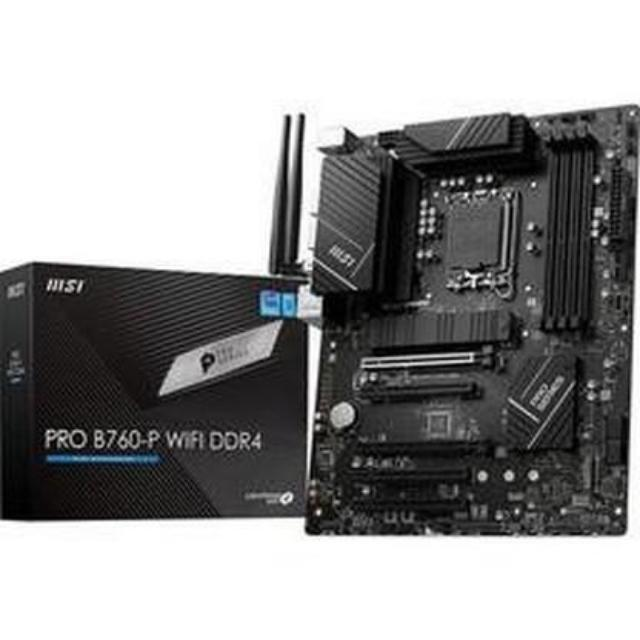Mainboard: (297, 84, 640, 542)
